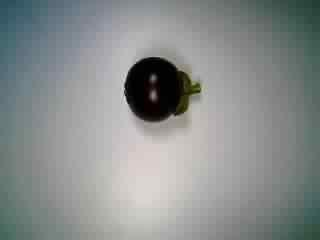mangosteen: (120, 50, 205, 126)
